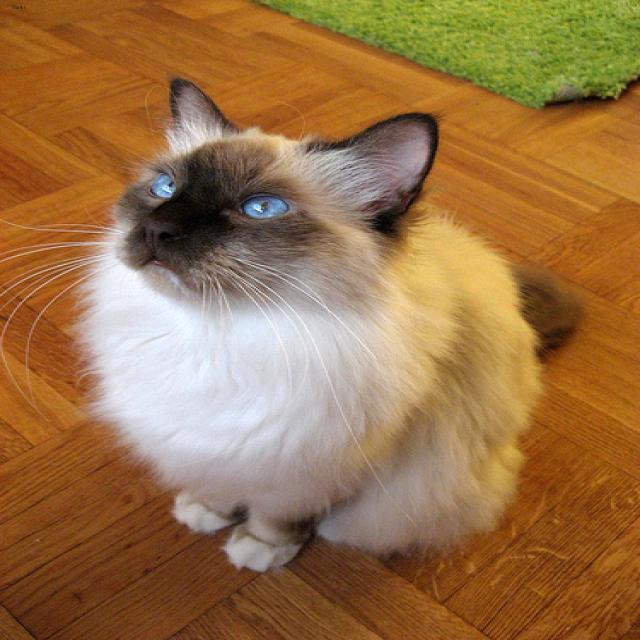Birman: (107, 77, 437, 305)
